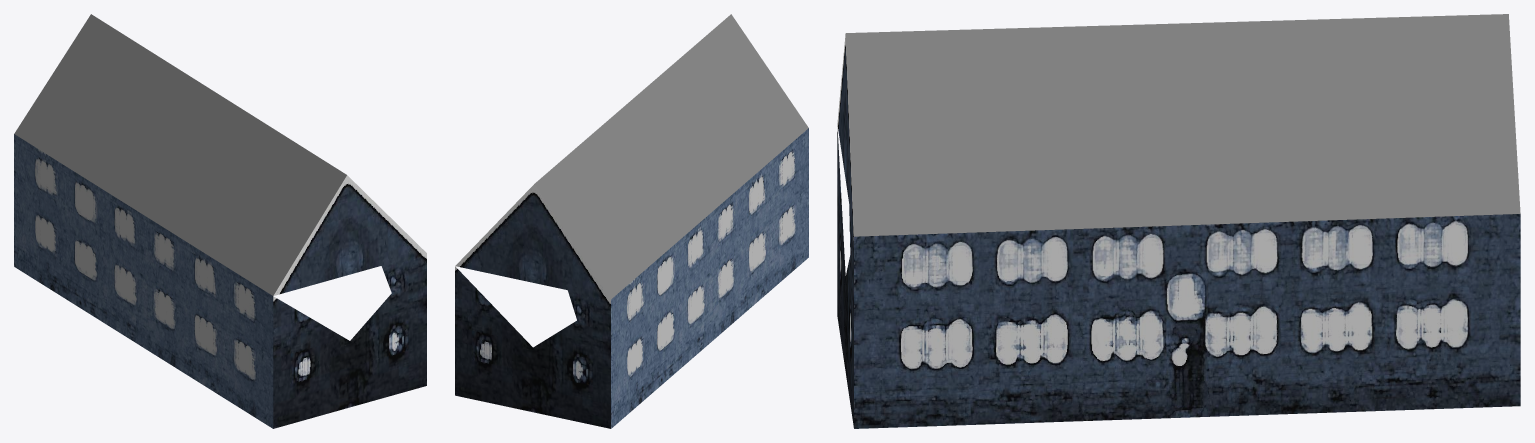
Rendered from Verwaltungsgebaeude_1.gltf.
The picture shows the model from 3 angles, left to right: view 1: azimuth 30°, elevation 25°; view 2: azimuth 150°, elevation 25°; view 3: azimuth 270°, elevation 25°; orthographic projection. The views are drawn at different scales.
Parts seen in each view (by area): view 1: Dach.1; view 2: Dach.1; view 3: Dach.1.
Boxes of the visible parts, x1,y1,x2,y2 form: Dach.1: [14, 14, 426, 428]; Dach.1: [455, 14, 808, 428]; Dach.1: [837, 14, 1520, 428].
Size of the model in its own units: 12.67 by 15.06 by 27.62.
Materials: 4 (3 with a texture image).
